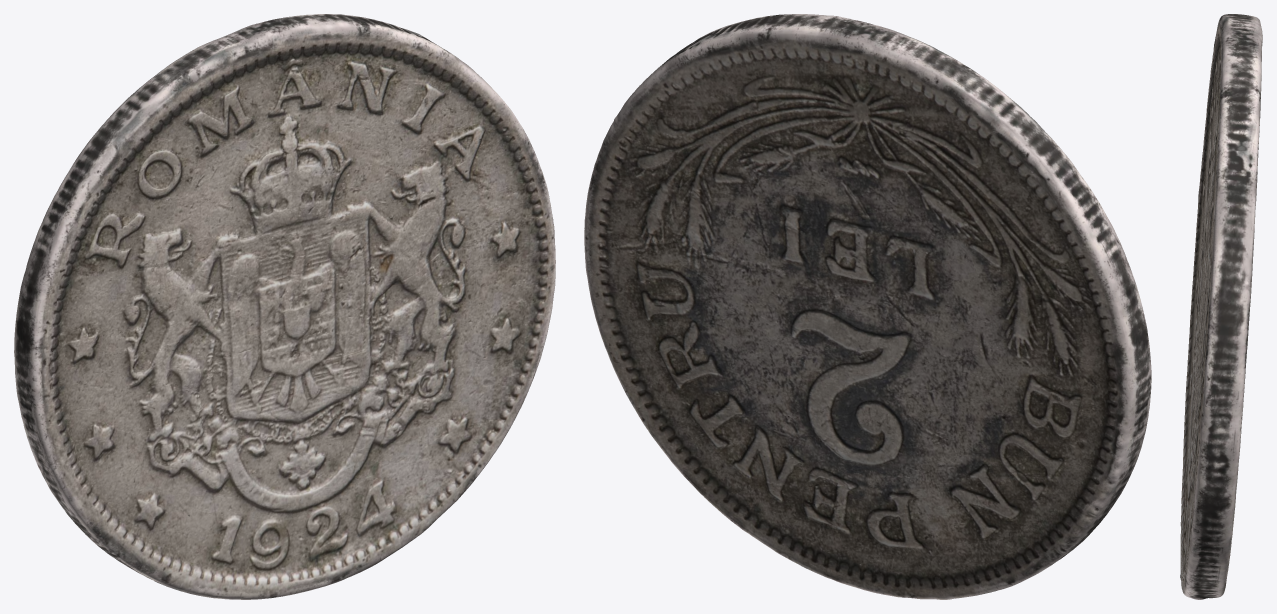
The model's file is coin.glb.
3 renders of one model, left to right at view 1: azimuth 30°, elevation 25°; view 2: azimuth 150°, elevation 25°; view 3: azimuth 270°, elevation 25°, orthographic. The views are drawn at different scales.
Visible parts, largest first — view 1: Object_2, Object_3, Object_5, Object_4; view 2: Object_4, Object_5, Object_3, Object_2; view 3: Object_2, Object_3, Object_5, Object_4.
Boxes of the visible parts, x1,y1,x2,y2 form: Object_2: (82,20,555,567); Object_3: (23,18,505,599); Object_5: (14,14,466,598); Object_4: (14,106,134,547); Object_4: (590,31,1145,599); Object_5: (584,14,1151,599); Object_3: (617,14,1151,599); Object_2: (584,14,1056,313); Object_2: (1181,14,1249,595); Object_3: (1180,14,1241,599); Object_5: (1185,14,1261,597); Object_4: (1186,19,1262,599).
Bounding box in the file's own units: 24.98 × 24.91 × 3.5.
1 material, 1 textured.
